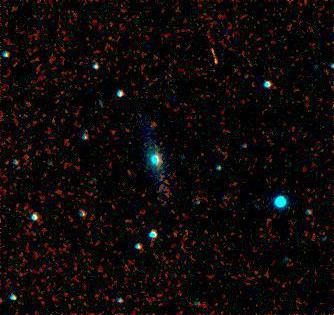star: (15, 89, 45, 119)
